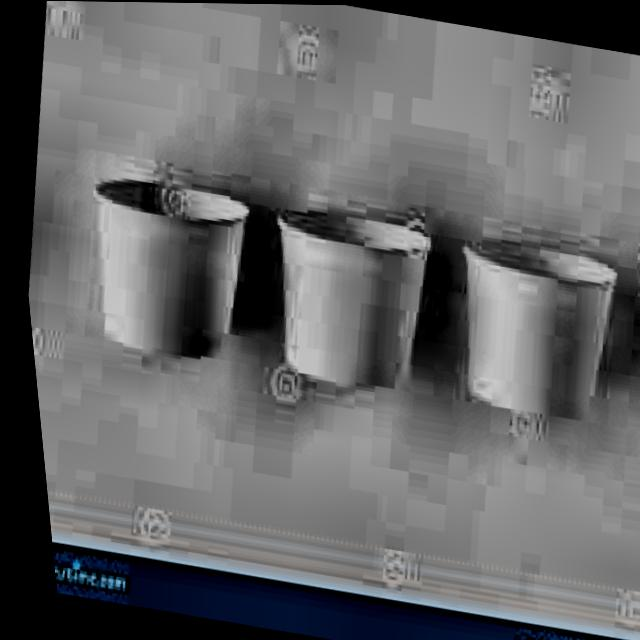Cup: (238, 176, 454, 416), (424, 212, 640, 451), (51, 155, 271, 382)
